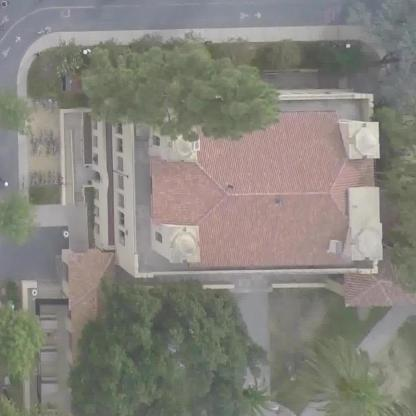Bicyclist: (30, 19, 52, 37)
Pedestrian: (33, 42, 44, 65), (0, 18, 9, 42)
